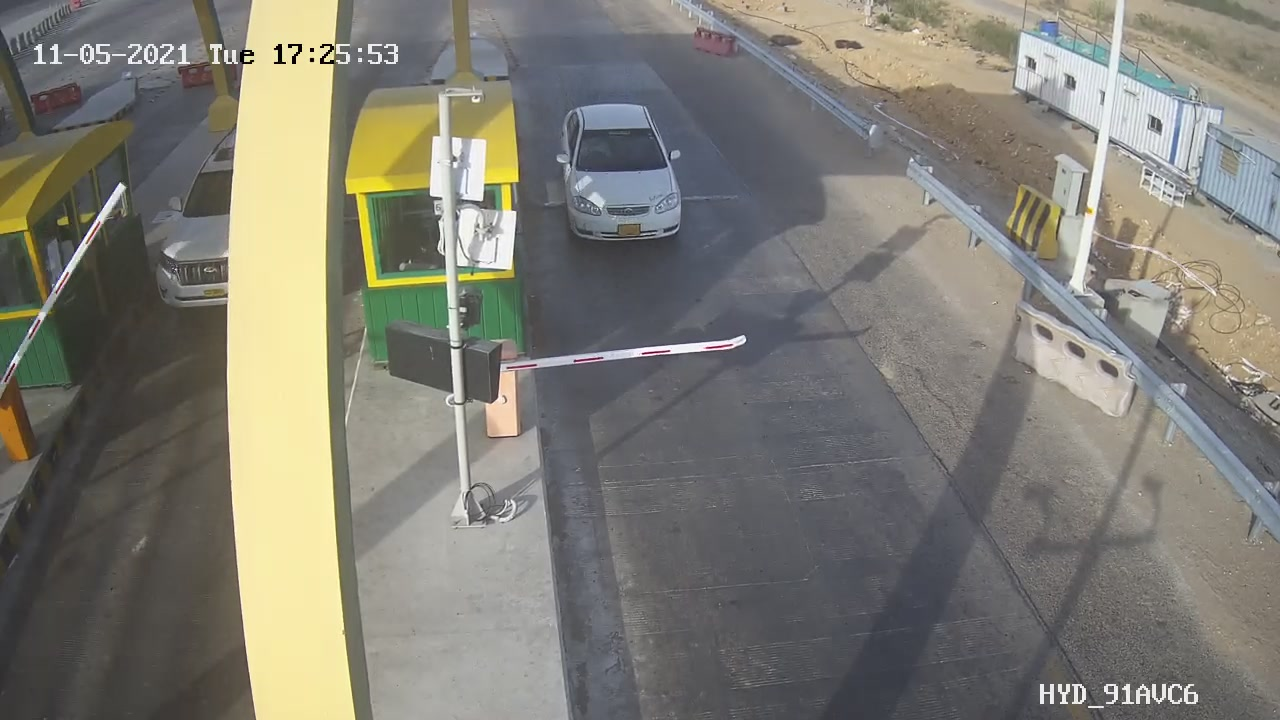F1: (539, 90, 703, 266)
